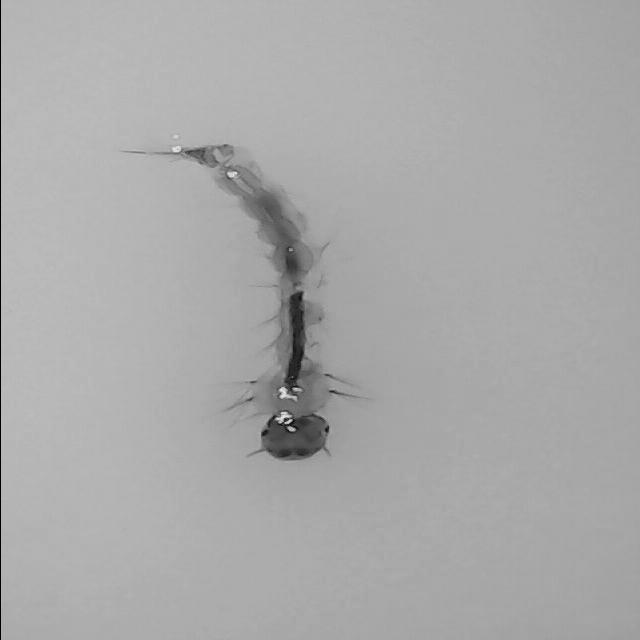larvas: (188, 142, 335, 460)
